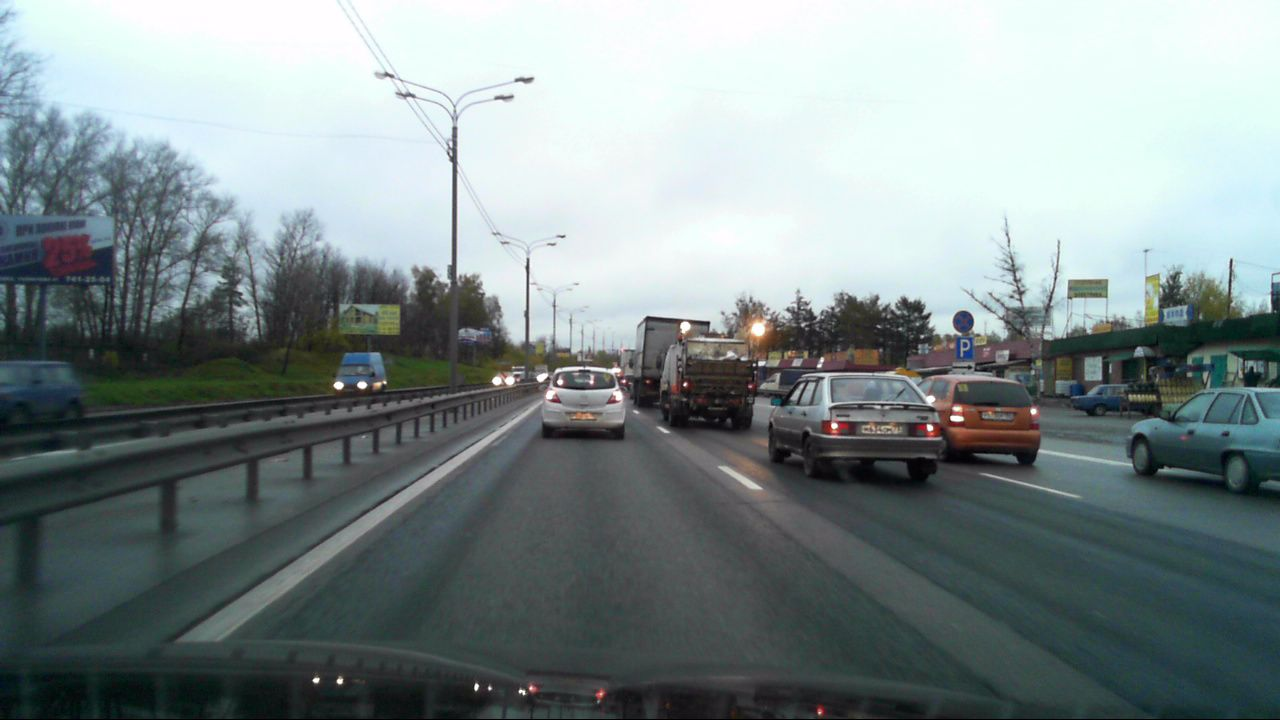No Parking: (952, 311, 973, 332)
